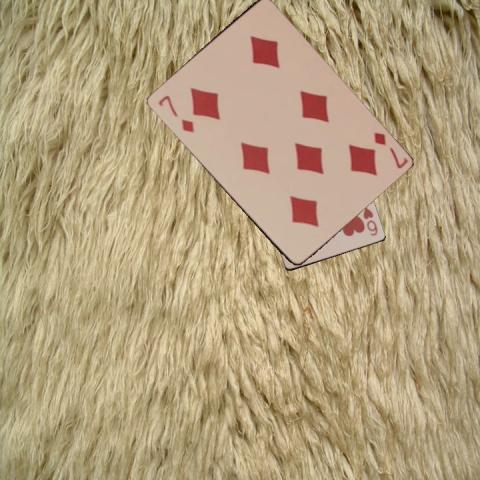6h: (361, 204, 379, 237)
7d: (155, 92, 195, 134), (370, 129, 409, 170)
